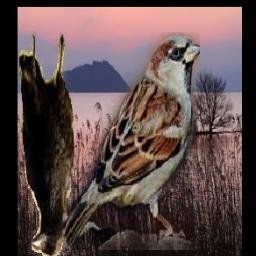Crow: (19, 32, 74, 256)
Sparrow: (63, 33, 200, 251)
